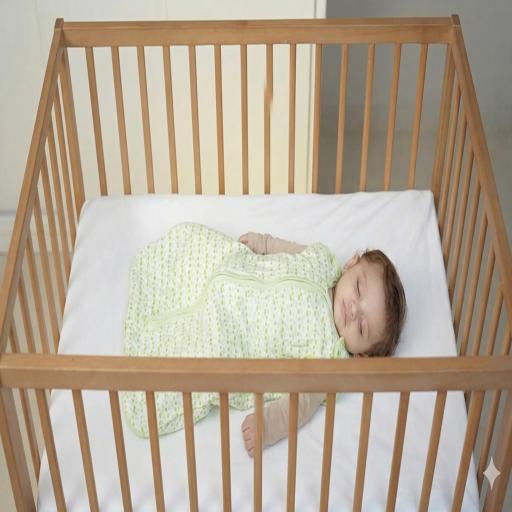baby: (124, 223, 405, 358)
crib: (56, 43, 460, 361)
